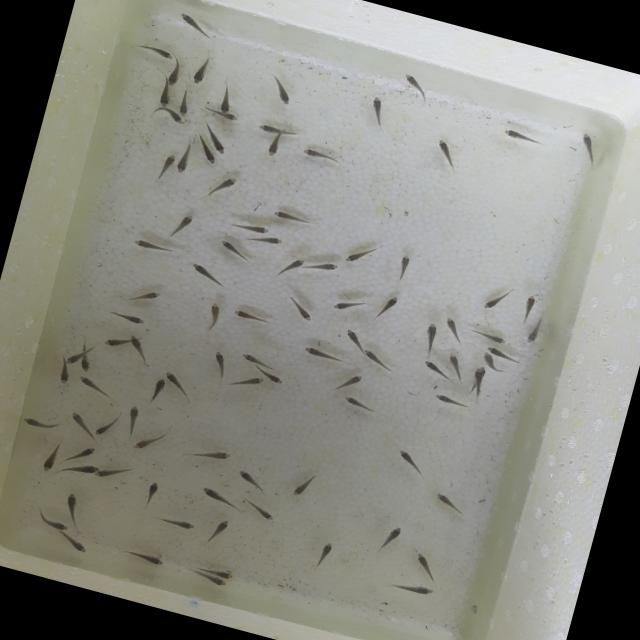fingerling: (184, 260, 237, 294), (170, 9, 220, 43), (260, 70, 302, 108), (183, 438, 235, 468), (398, 70, 439, 106), (280, 293, 322, 326), (294, 342, 346, 368), (341, 238, 382, 270), (264, 204, 318, 228), (409, 548, 444, 584), (200, 513, 232, 552), (36, 438, 67, 478), (127, 280, 167, 310), (196, 483, 236, 513), (429, 136, 464, 170), (161, 370, 199, 401), (132, 427, 170, 458), (239, 496, 281, 524), (124, 546, 173, 570), (183, 566, 232, 590), (573, 130, 602, 170), (63, 408, 99, 440), (57, 488, 89, 524), (130, 234, 174, 260), (216, 240, 256, 268), (252, 361, 292, 389), (357, 348, 399, 374), (429, 489, 468, 517), (208, 168, 240, 202), (480, 283, 512, 317), (482, 342, 523, 368), (202, 127, 235, 159), (96, 460, 136, 486), (297, 145, 342, 168), (500, 126, 542, 150), (338, 394, 380, 418), (395, 576, 436, 600), (376, 520, 404, 555), (438, 314, 468, 346), (394, 446, 426, 476), (120, 400, 148, 434), (106, 306, 149, 328), (418, 359, 454, 385), (331, 294, 370, 318), (362, 94, 392, 125), (426, 390, 468, 412), (138, 478, 166, 511), (189, 48, 212, 88), (172, 138, 195, 178), (417, 320, 445, 352), (146, 104, 188, 125), (228, 306, 270, 327), (76, 376, 116, 398), (168, 211, 197, 241), (310, 536, 338, 567), (331, 368, 364, 394), (233, 466, 266, 492), (61, 456, 100, 478), (92, 412, 121, 441), (375, 292, 403, 322), (238, 348, 276, 370), (338, 324, 368, 351), (198, 561, 238, 581), (198, 106, 242, 124), (164, 54, 187, 88), (255, 122, 298, 140), (214, 80, 236, 115), (524, 314, 548, 346), (133, 41, 173, 60), (160, 515, 198, 535), (98, 332, 132, 354), (70, 438, 101, 462), (202, 300, 225, 332), (290, 472, 316, 500), (516, 291, 538, 324), (154, 150, 178, 180), (36, 514, 72, 534), (473, 328, 510, 347), (21, 413, 58, 432), (280, 253, 306, 280), (50, 361, 76, 388), (232, 218, 270, 236), (174, 89, 196, 120), (250, 231, 284, 251), (442, 348, 466, 376), (306, 257, 338, 278), (126, 334, 150, 362), (231, 371, 263, 392), (193, 144, 223, 166), (62, 536, 94, 556), (260, 132, 284, 158), (209, 349, 231, 377), (391, 253, 412, 281), (146, 375, 166, 404), (478, 350, 500, 372), (152, 85, 173, 108), (468, 368, 484, 398), (78, 353, 98, 374), (63, 350, 83, 366)
